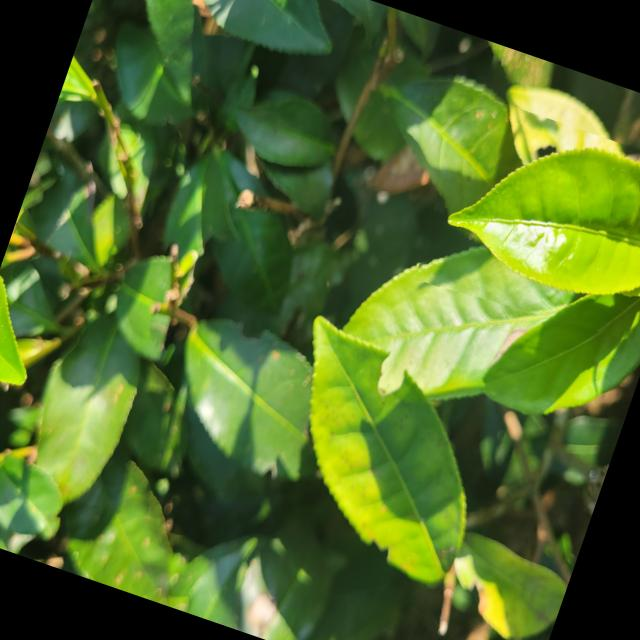Catagory A(1-2 days): (409, 91, 640, 354)
